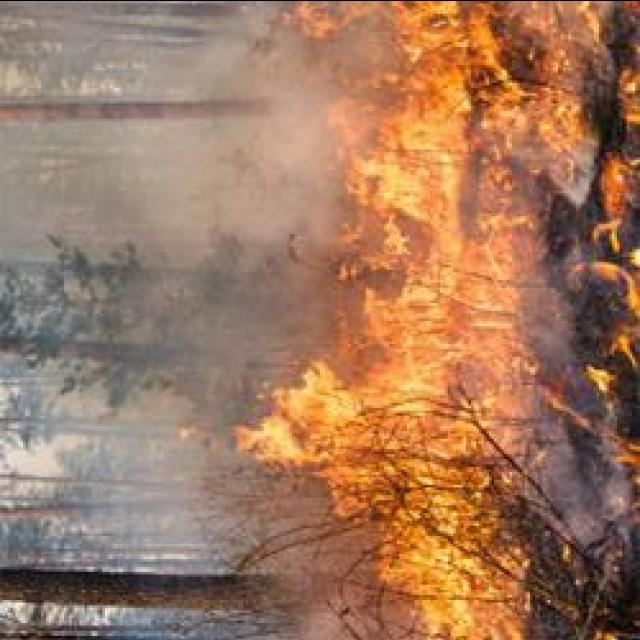fire: (362, 36, 552, 308), (381, 301, 454, 396), (292, 385, 354, 425)
smoke: (31, 367, 217, 537), (200, 118, 328, 228), (134, 0, 270, 98)
